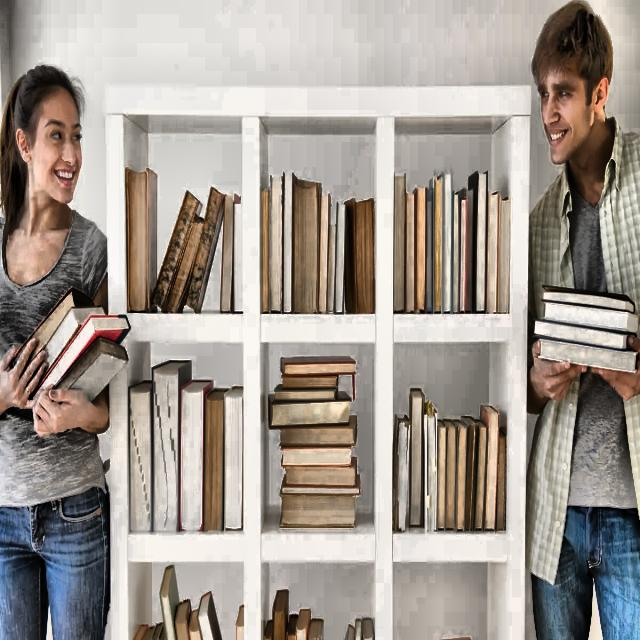Books: (38, 315, 130, 389), (152, 360, 191, 531), (151, 192, 200, 310), (185, 188, 225, 312), (180, 379, 212, 531), (125, 169, 158, 312), (56, 338, 128, 400), (29, 288, 92, 358), (165, 215, 204, 312), (292, 179, 320, 312), (45, 306, 104, 366), (129, 381, 152, 531), (539, 339, 638, 372), (280, 356, 356, 397), (204, 390, 226, 531), (534, 319, 630, 350), (544, 302, 639, 333), (269, 392, 350, 427), (469, 173, 488, 311), (224, 388, 242, 529), (280, 495, 356, 527), (280, 415, 358, 446), (542, 285, 635, 311), (480, 404, 499, 528), (220, 194, 240, 311), (355, 198, 374, 312), (409, 388, 424, 525), (392, 417, 410, 530), (285, 458, 356, 485), (461, 417, 478, 528), (424, 400, 438, 531), (269, 177, 282, 311), (486, 192, 500, 311), (440, 173, 452, 311), (453, 421, 468, 531), (394, 175, 406, 311), (442, 419, 456, 528), (474, 421, 488, 528), (345, 198, 358, 312), (281, 446, 351, 467), (160, 565, 179, 640), (282, 173, 292, 311), (498, 196, 510, 311), (415, 188, 426, 311), (334, 202, 346, 312), (319, 194, 330, 311), (405, 194, 415, 311), (198, 592, 221, 640), (465, 190, 474, 311), (274, 383, 338, 400), (434, 179, 442, 311), (459, 194, 468, 311), (496, 427, 506, 528), (261, 190, 269, 311), (328, 204, 337, 311), (452, 192, 460, 311), (234, 204, 242, 311), (438, 421, 446, 528), (272, 590, 289, 639), (282, 375, 339, 389), (426, 190, 432, 311), (282, 486, 360, 495), (175, 598, 191, 639), (296, 608, 311, 639), (189, 610, 202, 640), (308, 619, 324, 640), (361, 617, 375, 640), (286, 615, 298, 639), (236, 604, 244, 639), (134, 623, 148, 640), (152, 623, 166, 640), (264, 619, 274, 639), (142, 625, 154, 639), (354, 619, 362, 639), (345, 625, 355, 640)
